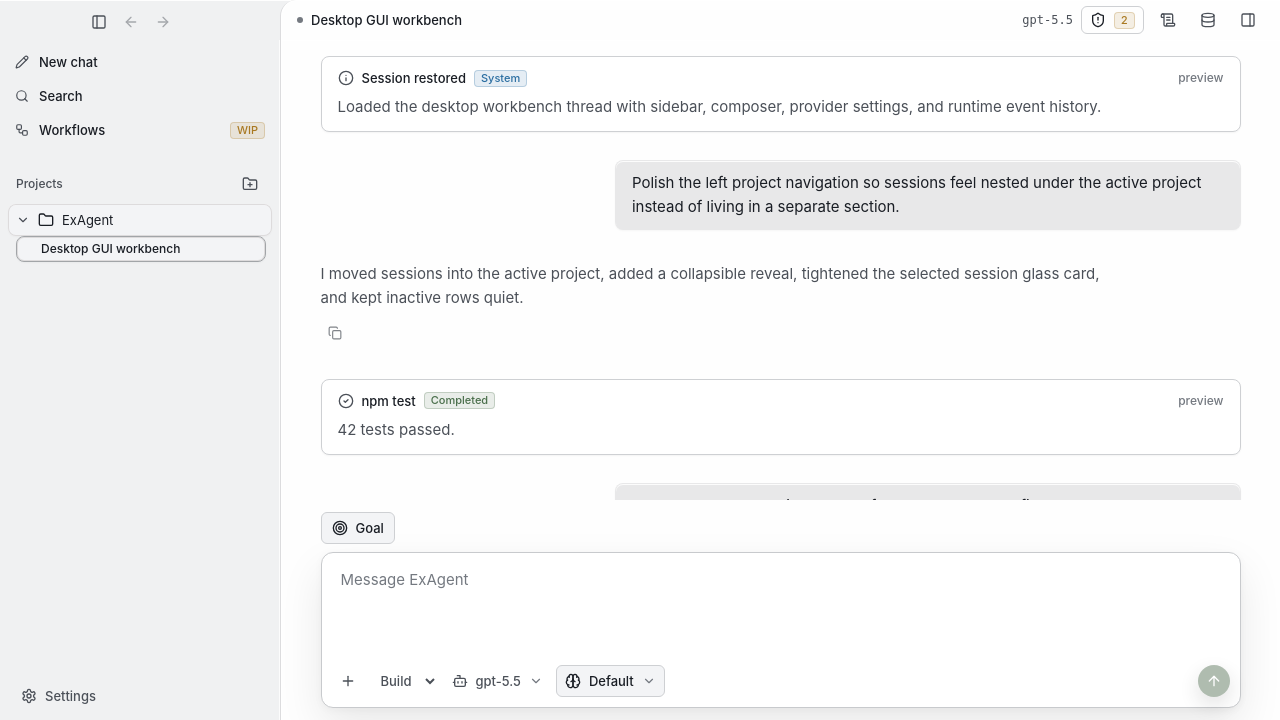
Test case: AppShell › opens the memory inspector from the window chrome
Expected: the text "Session restored" is shown, x1=362 y1=69 x2=466 y2=87
Click the button named "Open memory": (1208, 20) x1=1192 y1=4 x2=1224 y2=36
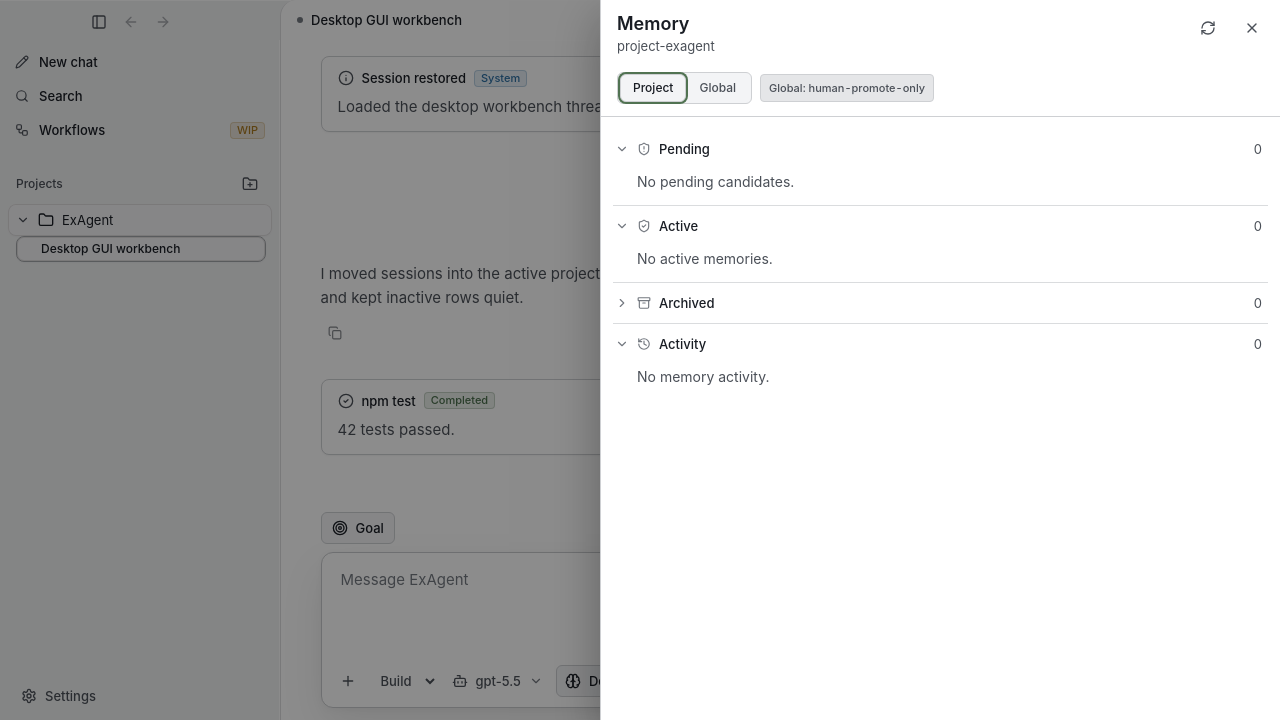
Result: the dialog is shown at x1=600 y1=0 x2=1279 y2=719
Result: the number of headings "Memory" is 2
Result: the text "No pending candidates." is shown at x1=637 y1=173 x2=794 y2=190
